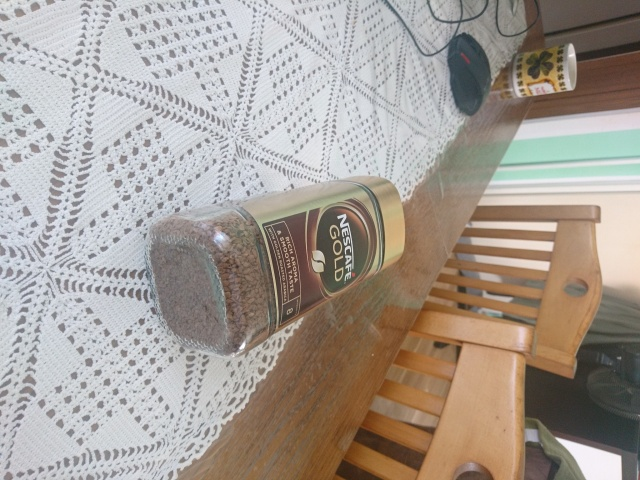Nescafe Gold 225g: (141, 172, 409, 362)
